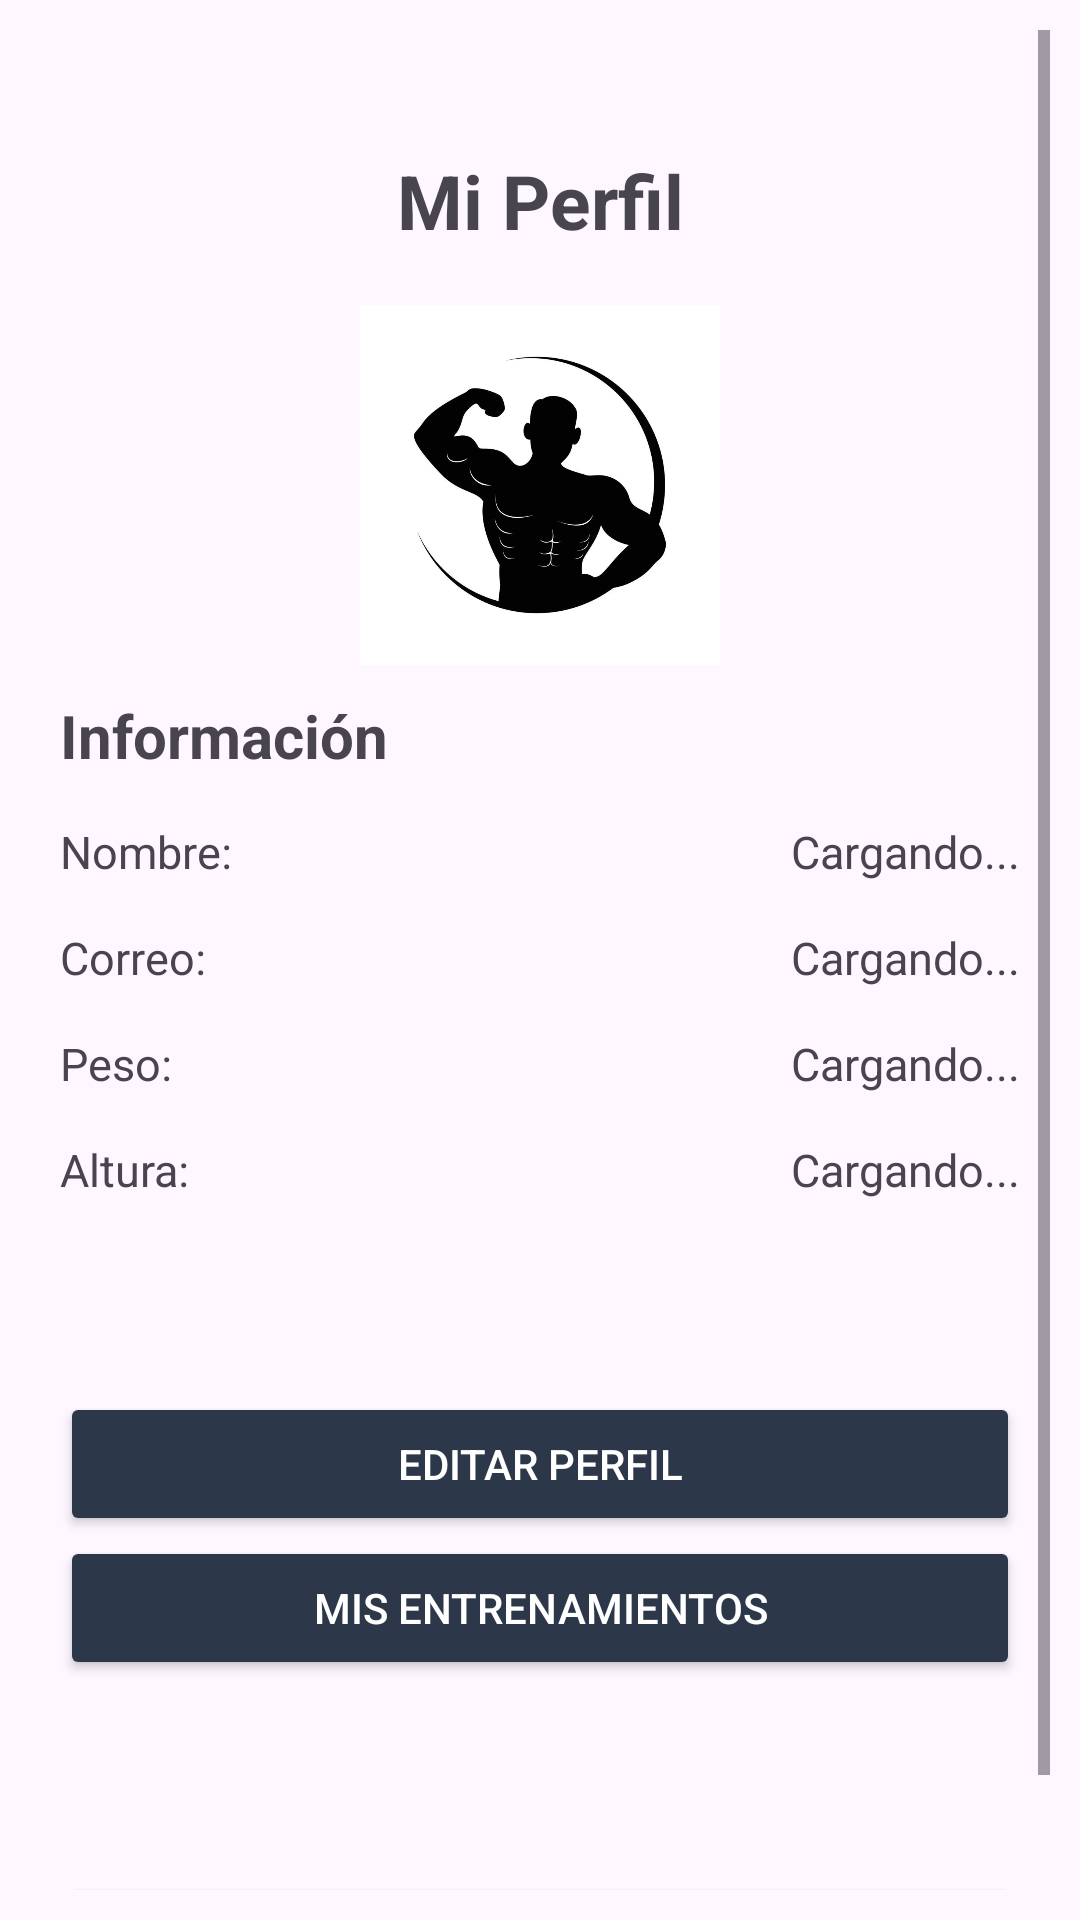

Named icons in this screenshot (1080px×1920px) and their centers, point (x, y):
user: point (540, 485)
